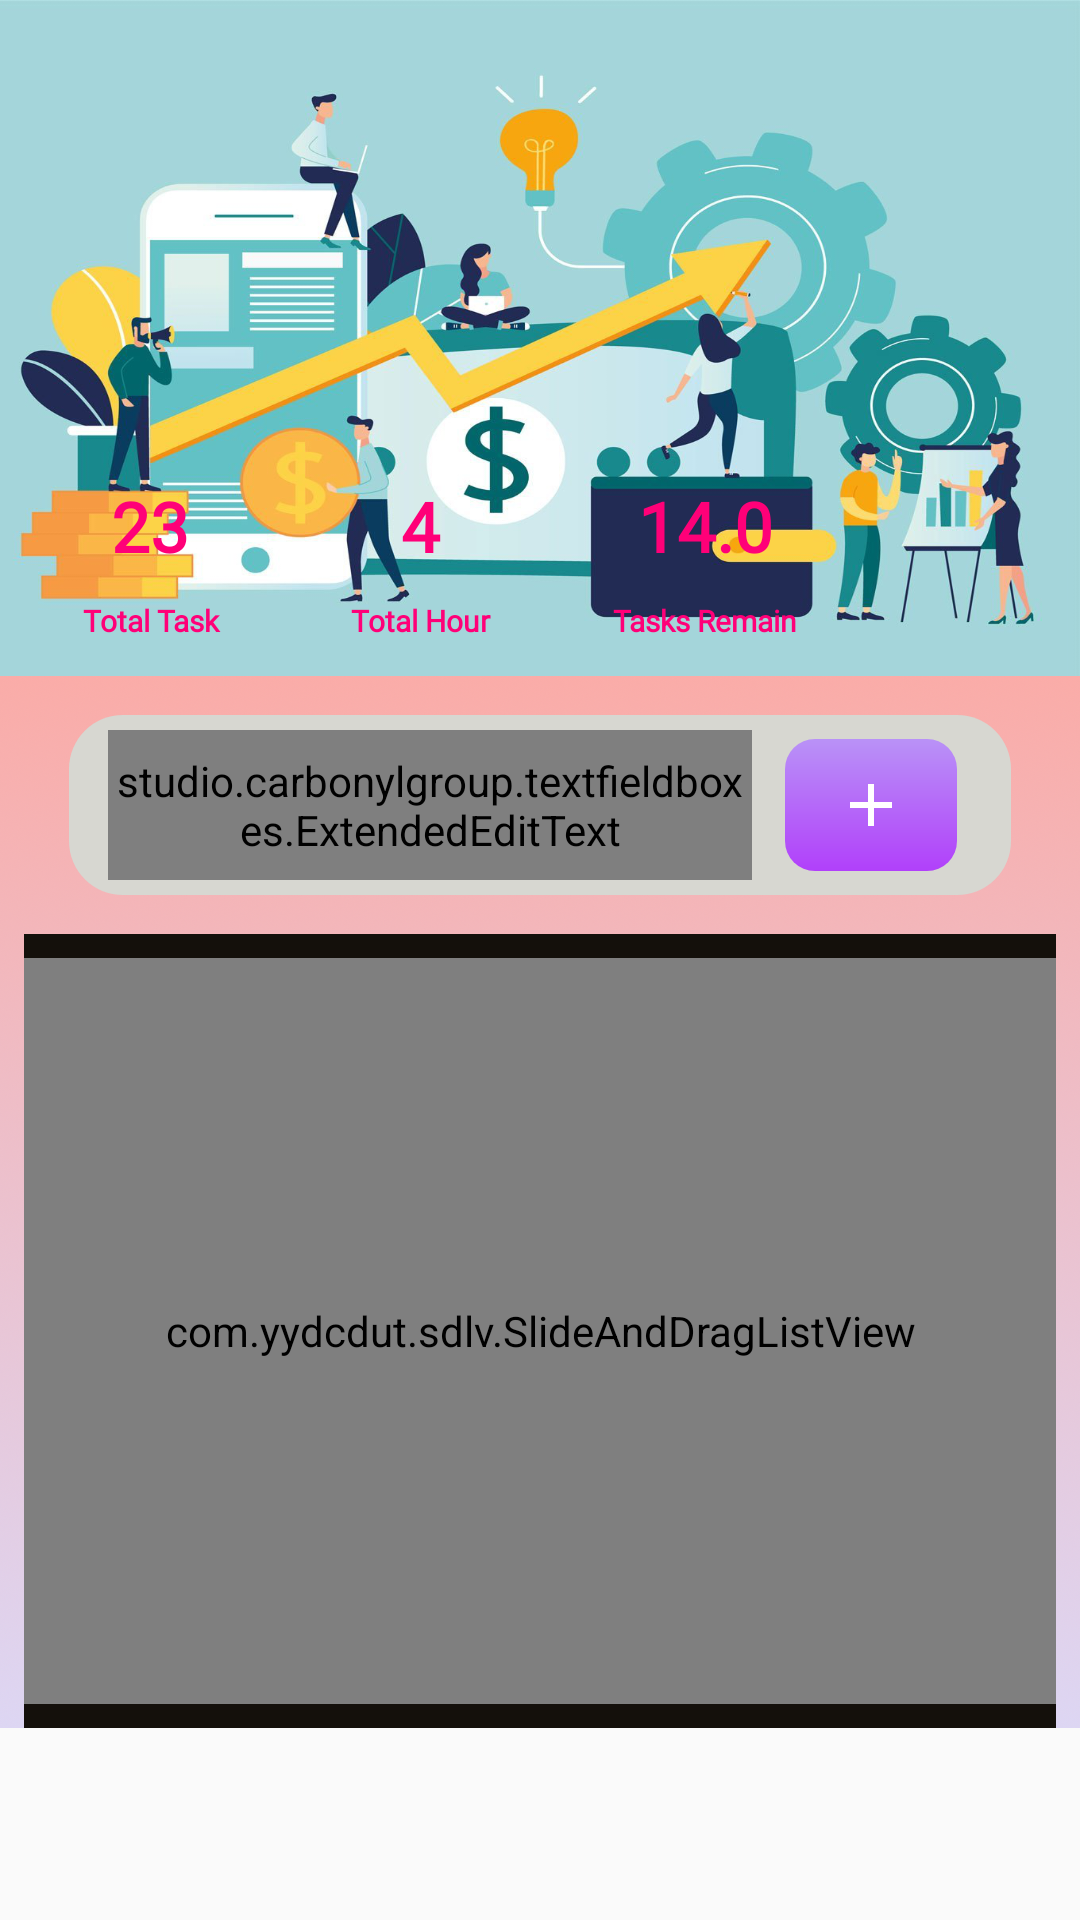

Screen size 1080px x 1920px. Icon name, then its center in pixels as (x=x, y=y):
add: (x=871, y=805)
